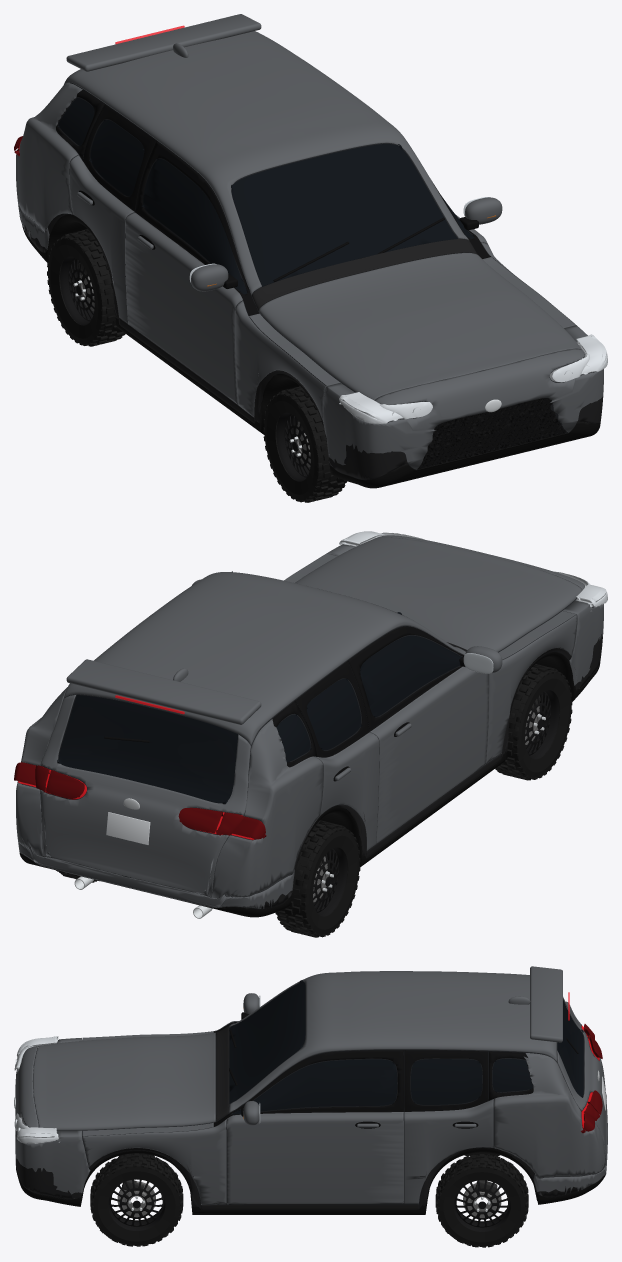
Rendered from RAV4_2023_LE.glb.
3 views of the same model, one above another, from view 1: azimuth 30°, elevation 25°; view 2: azimuth 150°, elevation 25°; view 3: azimuth 270°, elevation 25° (orthographic). The views are drawn at different scales.
Parts seen in each view (by area): view 1: Roof, Hood, Windshield, Bumper_Front, Door_FR, Quarter_R, Door_RR, Underbody, Door_FR_Glass, Grille_Mesh, Fender_R, Roof_Spoiler (+20 smaller); view 2: Roof, Hood, Liftgate, Door_FR, Liftgate_Glass, Quarter_R, Door_RR, Roof_Spoiler, Door_FR_Glass, Fender_R, Bumper_Rear, Underbody (+21 smaller); view 3: Roof, Door_FL, Hood, Quarter_L, Door_RL, Door_FL_Glass, Windshield, Bumper_Front, Fender_L, Wheel_RL_Tire, Wheel_FL_Tire, Chassis_Tub (+22 smaller).
Boxes of the visible parts, x1,y1,x2,y2 form: Roof: (64,31,468,294); Hood: (259,253,581,400); Windshield: (231,144,457,286); Bumper_Front: (322,325,603,479); Door_FR: (125,140,259,404); Quarter_R: (16,83,104,231); Door_RR: (69,104,156,323); Underbody: (19,214,600,488); Door_FR_Glass: (142,158,248,294); Grille_Mesh: (418,398,565,469); Fender_R: (235,301,326,420); Roof_Spoiler: (66,14,261,71); Roof: (63,572,465,745); Hood: (295,537,582,651); Liftgate: (40,695,250,897); Door_FR: (348,626,488,844); Liftgate_Glass: (57,695,238,804); Quarter_R: (211,701,323,897); Door_RR: (295,661,379,850); Roof_Spoiler: (66,659,261,724); Door_FR_Glass: (360,635,461,716); Fender_R: (486,614,577,763); Bumper_Rear: (18,841,294,908); Underbody: (19,651,600,917); Roof: (229,971,557,1112); Door_FL: (214,1050,403,1204); Hood: (33,1032,215,1130); Quarter_L: (488,1051,606,1178); Door_RL: (404,1050,493,1203); Door_FL_Glass: (232,1059,397,1114); Windshield: (229,980,305,1103); Bumper_Front: (15,1038,90,1199); Fender_L: (82,1119,226,1204); Wheel_RL_Tire: (437,1155,526,1246); Wheel_FL_Tire: (92,1154,181,1245); Chassis_Tub: (20,1016,599,1209).
Bounding box in the file's own units: 2.24 × 1.73 × 4.63.
